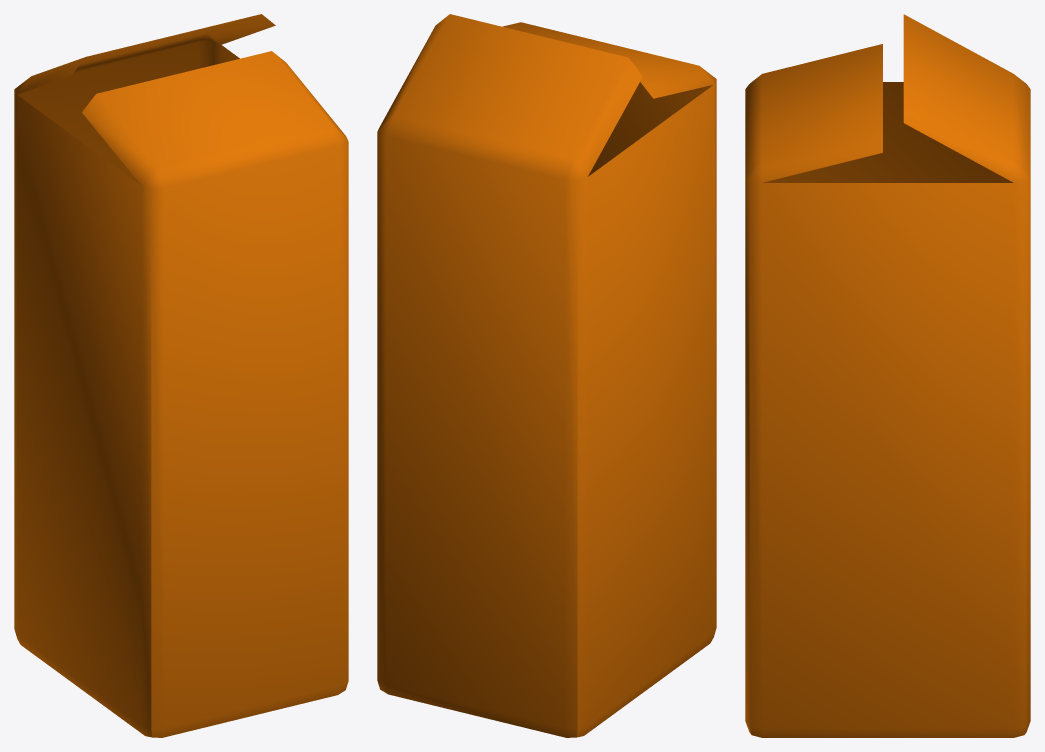
File: SM_Cardboard003.fbx
3 renders of one model, left to right at view 1: azimuth 30°, elevation 25°; view 2: azimuth 150°, elevation 25°; view 3: azimuth 270°, elevation 25°, orthographic.
Parts seen in each view (by area): view 1: SM_Cardboard003; view 2: SM_Cardboard003; view 3: SM_Cardboard003.
Boxes of the visible parts, x1,y1,x2,y2 form: SM_Cardboard003: (14,14,348,737); SM_Cardboard003: (377,14,716,737); SM_Cardboard003: (745,14,1030,737).
Bounding box in the file's own units: 83.52 × 244 × 99.84.
